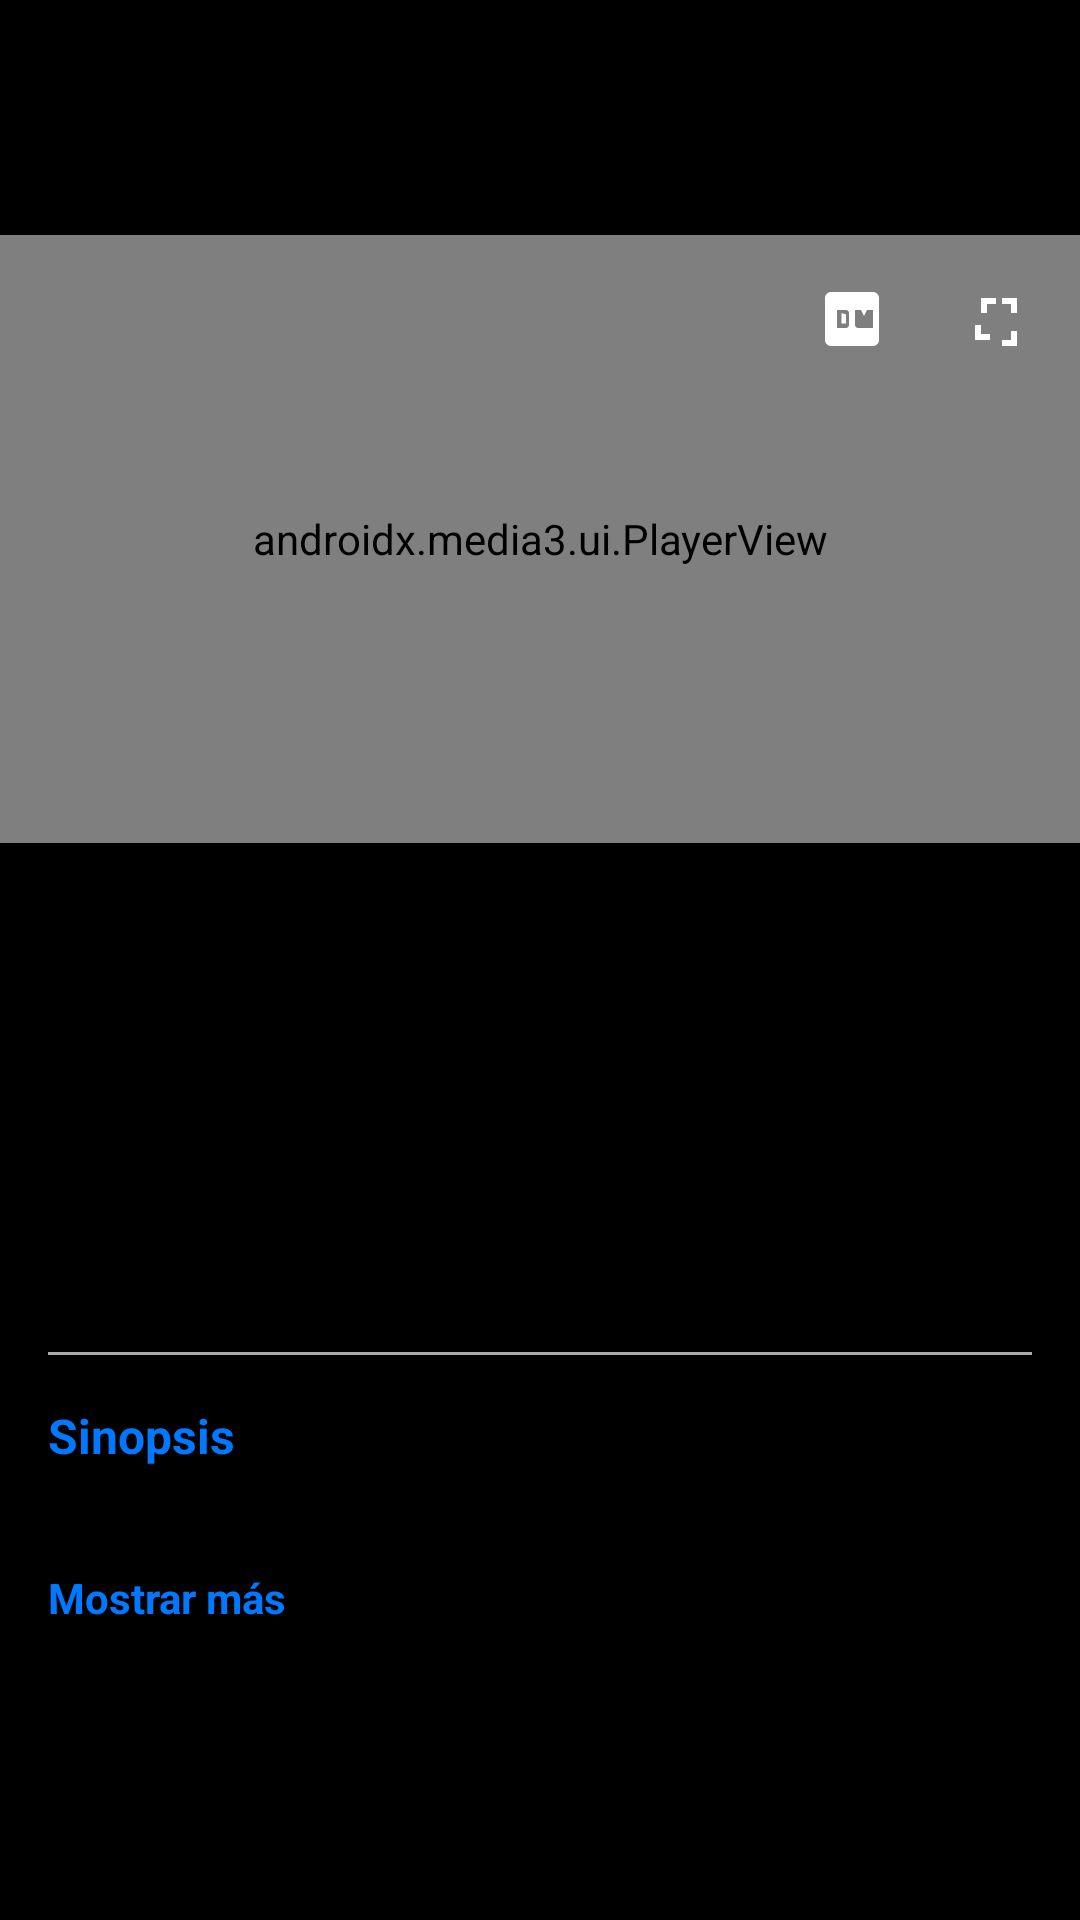

Where icons sit on this 1080×1920 app screen, as (x1, y1, x2, y2):
fullscreen: (975, 298, 1017, 346)
